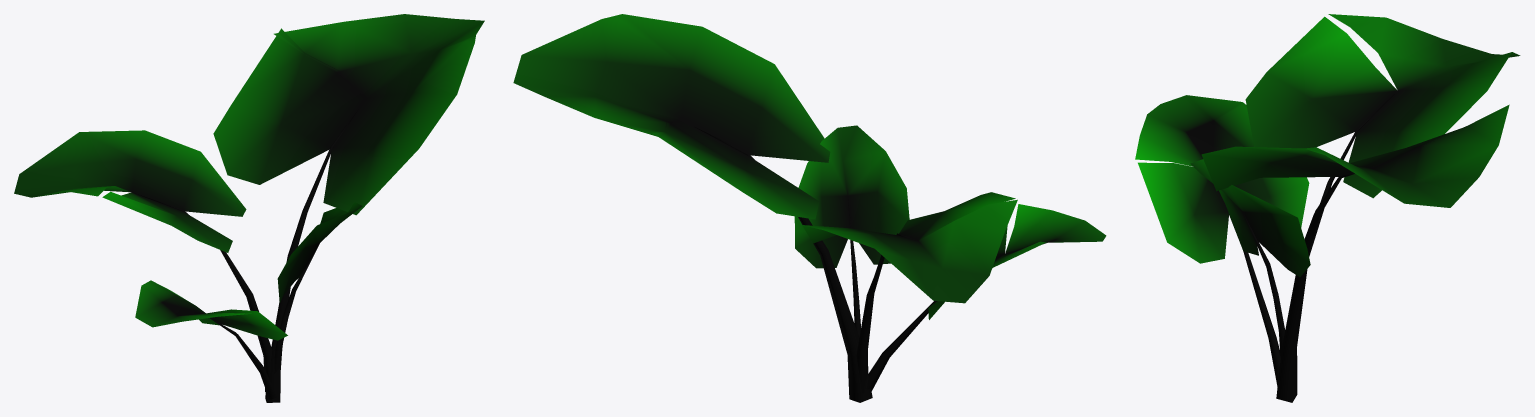
The model's file is Alocasia01_afsTREE_xlprl15_xlod01.fbx.
3 renders of one model, left to right at view 1: azimuth 30°, elevation 25°; view 2: azimuth 150°, elevation 25°; view 3: azimuth 270°, elevation 25°, orthographic. The views are drawn at different scales.
Visible parts, largest first — view 1: trunk_xw06_xt05_xlp05_xp07, alocasia_xw04_xt05_xlp04, alocasia_xw03_xt04_xlp02_xp10, alocasia_xw02_xt03_xlp02_xp06; view 2: trunk_xw06_xt05_xlp05_xp07, alocasia_xw04_xt05_xlp04, alocasia_xw02_xt03_xlp02_xp06, alocasia_xw03_xt04_xlp02_xp10; view 3: alocasia_xw04_xt05_xlp04, alocasia_xw03_xt04_xlp02_xp10, trunk_xw06_xt05_xlp05_xp07, alocasia_xw02_xt03_xlp02_xp06.
Boxes of the visible parts, x1,y1,x2,y2 form: trunk_xw06_xt05_xlp05_xp07: (213,14,484,402); alocasia_xw04_xt05_xlp04: (14,130,272,392); alocasia_xw03_xt04_xlp02_xp10: (135,280,287,399); alocasia_xw02_xt03_xlp02_xp06: (274,202,362,373); trunk_xw06_xt05_xlp05_xp07: (513,14,872,402); alocasia_xw04_xt05_xlp04: (802,192,1017,393); alocasia_xw02_xt03_xlp02_xp06: (794,125,909,337); alocasia_xw03_xt04_xlp02_xp10: (866,204,1106,390); alocasia_xw04_xt05_xlp04: (1245,14,1520,256); alocasia_xw03_xt04_xlp02_xp10: (1135,95,1309,386); trunk_xw06_xt05_xlp05_xp07: (1201,104,1509,402); alocasia_xw02_xt03_xlp02_xp06: (1190,159,1310,364).
Size of the model in its own units: 2.56 by 1.57 by 1.69.
